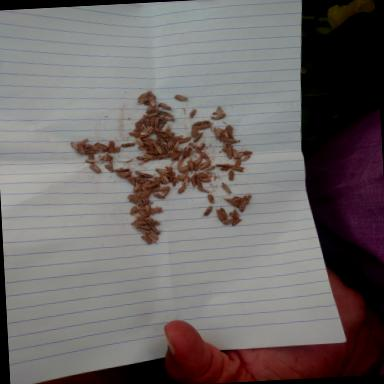pbw: (215, 204, 227, 220), (149, 128, 169, 137), (139, 179, 153, 191), (158, 102, 174, 112), (194, 140, 206, 153), (74, 140, 85, 154), (187, 142, 201, 153), (141, 232, 153, 244), (201, 204, 213, 216), (192, 130, 204, 142), (132, 226, 150, 234), (88, 164, 102, 174), (146, 216, 160, 226), (184, 157, 194, 171), (196, 122, 213, 130), (114, 166, 136, 172), (176, 136, 192, 144), (80, 158, 98, 165), (189, 122, 198, 136), (221, 217, 236, 225), (152, 142, 162, 154), (190, 120, 210, 126), (225, 144, 233, 159), (160, 186, 172, 196), (174, 93, 188, 101), (134, 154, 148, 162), (140, 136, 154, 144), (128, 130, 142, 138), (156, 109, 172, 116), (146, 180, 160, 188), (220, 136, 236, 143), (94, 141, 108, 149), (82, 143, 98, 150), (120, 170, 134, 178), (138, 198, 149, 208), (226, 169, 236, 180), (178, 170, 189, 180), (222, 182, 232, 193), (152, 175, 164, 184), (162, 113, 174, 122), (132, 125, 144, 134), (213, 112, 226, 120), (158, 174, 168, 184), (180, 176, 190, 186), (199, 150, 209, 160), (188, 108, 198, 118), (156, 113, 167, 122), (152, 192, 166, 199), (154, 167, 168, 174), (142, 152, 156, 159), (226, 212, 238, 220), (142, 140, 154, 148), (146, 104, 158, 112), (177, 164, 189, 172), (197, 186, 209, 194), (130, 220, 146, 226), (180, 146, 188, 158), (134, 117, 144, 126), (69, 141, 79, 150), (219, 164, 234, 170), (231, 218, 242, 226), (170, 150, 178, 161), (245, 192, 252, 204), (160, 130, 174, 136), (238, 150, 252, 156), (232, 165, 244, 172), (137, 224, 151, 230), (214, 129, 221, 141), (104, 163, 113, 172), (220, 128, 228, 138), (129, 206, 137, 216), (120, 142, 136, 147), (136, 136, 144, 146), (178, 184, 186, 194), (176, 158, 184, 168), (148, 96, 156, 106), (166, 139, 174, 149), (195, 177, 202, 188), (108, 140, 114, 152), (144, 218, 152, 227), (154, 116, 160, 128), (158, 120, 167, 128), (190, 174, 196, 186), (140, 132, 152, 138), (142, 172, 154, 178), (155, 153, 169, 158), (78, 138, 88, 145), (162, 142, 169, 152), (232, 208, 238, 219), (144, 117, 150, 128), (234, 158, 242, 166), (148, 90, 156, 98), (213, 163, 229, 167), (154, 136, 162, 144), (150, 232, 158, 240), (164, 123, 172, 131), (194, 156, 202, 164), (172, 141, 179, 150), (226, 130, 233, 139), (233, 195, 242, 202), (207, 194, 214, 203), (153, 186, 168, 190), (142, 126, 152, 132), (134, 170, 144, 176), (241, 154, 251, 160), (202, 165, 214, 170), (130, 176, 136, 186), (156, 134, 164, 141), (216, 106, 222, 115), (88, 154, 94, 163), (146, 112, 159, 116), (99, 156, 112, 160), (164, 173, 174, 178), (193, 164, 198, 174), (146, 150, 158, 154), (216, 127, 224, 133), (175, 174, 180, 183), (236, 152, 243, 158), (138, 179, 152, 182), (188, 146, 192, 156), (204, 170, 214, 174), (138, 160, 148, 164), (232, 148, 236, 158), (103, 152, 108, 160), (137, 146, 146, 150), (172, 178, 176, 186), (160, 136, 168, 140), (222, 144, 226, 150)
